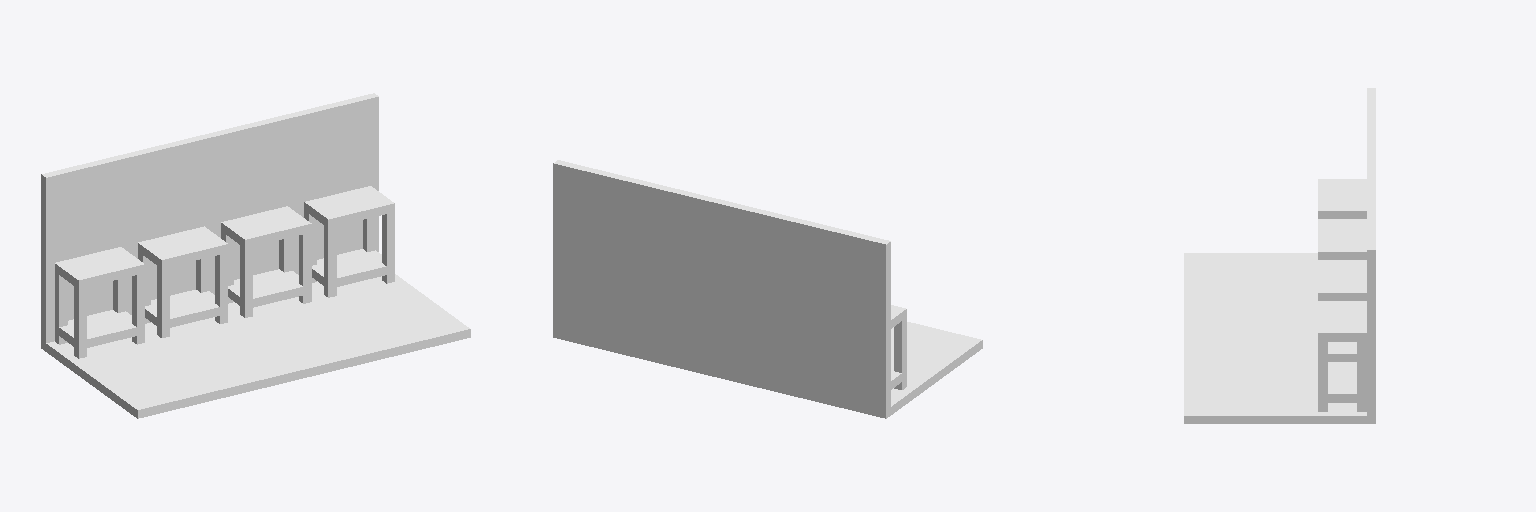
The model's file is level_three-13.obj.
3 views of the same model, side by side, from view 1: azimuth 30°, elevation 25°; view 2: azimuth 150°, elevation 25°; view 3: azimuth 270°, elevation 25° (orthographic).
Parts seen in each view (by area): view 1: level_three-13; view 2: level_three-13; view 3: level_three-13.
Boxes of the visible parts, x1=… form: level_three-13: x1=41, y1=93, x2=470, y2=418; level_three-13: x1=553, y1=160, x2=982, y2=418; level_three-13: x1=1184, y1=88, x2=1375, y2=423.
Size of the model in its own units: 40 by 20 by 20.